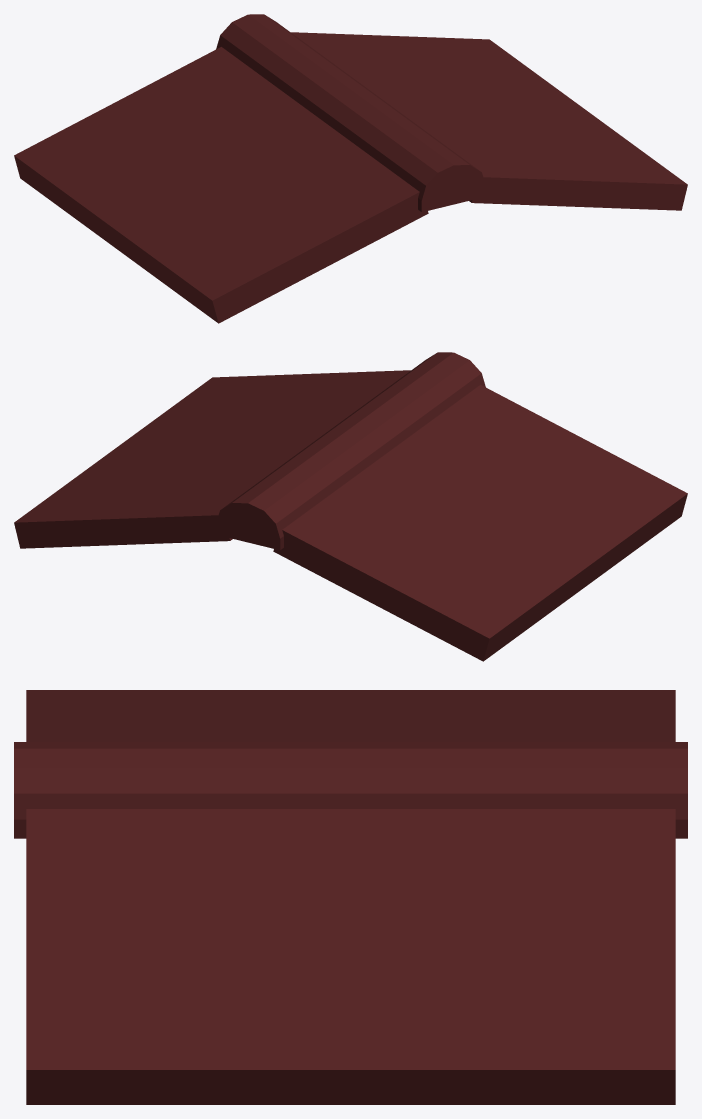
The model's file is bookEnemyModel.fbx.
The picture shows the model from 3 angles, top to bottom: view 1: azimuth 30°, elevation 25°; view 2: azimuth 150°, elevation 25°; view 3: azimuth 270°, elevation 25°; orthographic projection. The views are drawn at different scales.
Visible parts, largest first — view 1: leftWing, rightWing, spine; view 2: leftWing, rightWing, spine; view 3: rightWing, spine, leftWing.
Part boxes in pixels (x1=…): leftWing: x1=14, y1=47, x2=428, y2=323; rightWing: x1=291, y1=32, x2=687, y2=210; spine: x1=216, y1=14, x2=485, y2=212; leftWing: x1=273, y1=385, x2=687, y2=661; rightWing: x1=14, y1=370, x2=410, y2=548; spine: x1=216, y1=352, x2=485, y2=550; rightWing: x1=26, y1=809, x2=675, y2=1104; spine: x1=14, y1=742, x2=687, y2=838; leftWing: x1=26, y1=690, x2=675, y2=741.
Bounding box in the file's own units: 14.8 × 3.11 × 11.1.
